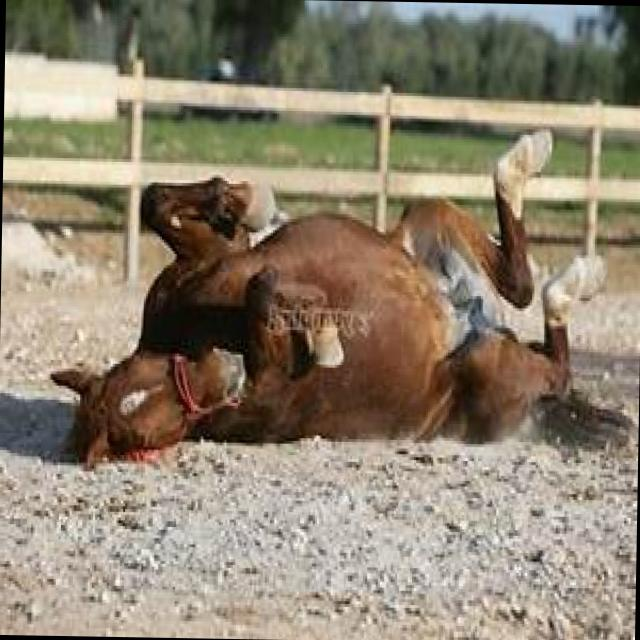animal: (59, 122, 599, 474)
